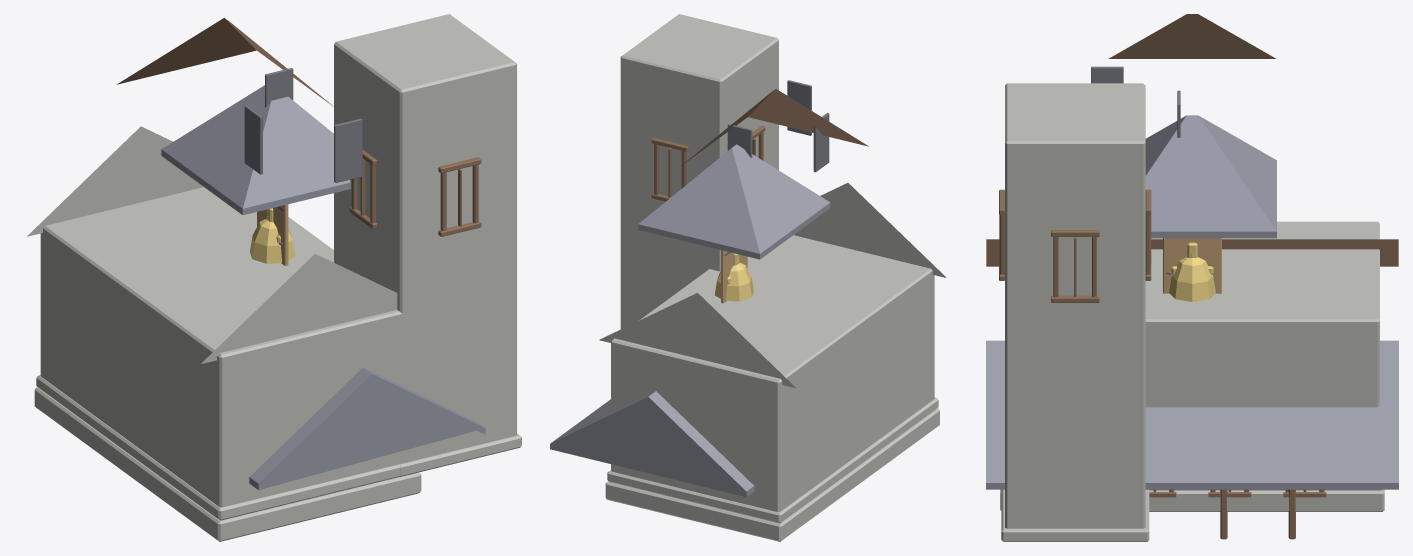
The model's file is town_stone_church.glb.
The picture shows the model from 3 angles, left to right: view 1: azimuth 30°, elevation 25°; view 2: azimuth 150°, elevation 25°; view 3: azimuth 270°, elevation 25°; orthographic projection. The views are drawn at different scales.
Visible parts, largest first — view 1: world; view 2: world; view 3: world.
Part boxes in pixels (x1=…): world: x1=27, y1=14, x2=521, y2=541; world: x1=550, y1=14, x2=946, y2=541; world: x1=986, y1=14, x2=1398, y2=541.
Bounding box in the file's own units: 1.46 × 2 × 1.58.
